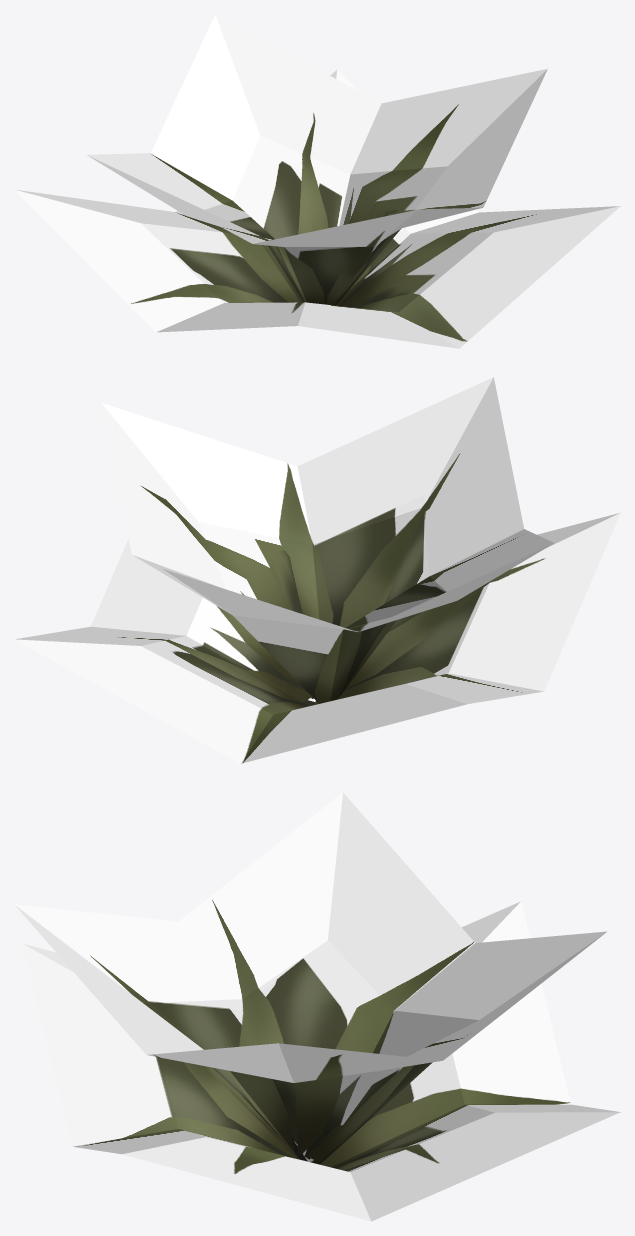
File: grass1.fbx
3 views of the same model, one above another, from view 1: azimuth 30°, elevation 25°; view 2: azimuth 150°, elevation 25°; view 3: azimuth 270°, elevation 25° (orthographic). The views are drawn at different scales.
Parts seen in each view (by area): view 1: Plane; view 2: Plane; view 3: Plane.
Boxes of the visible parts, <box> form: Plane: <box>14,14,620,348</box>; Plane: <box>14,377,620,763</box>; Plane: <box>14,792,620,1221</box>.
Size of the model in its own units: 515 by 240 by 518.
